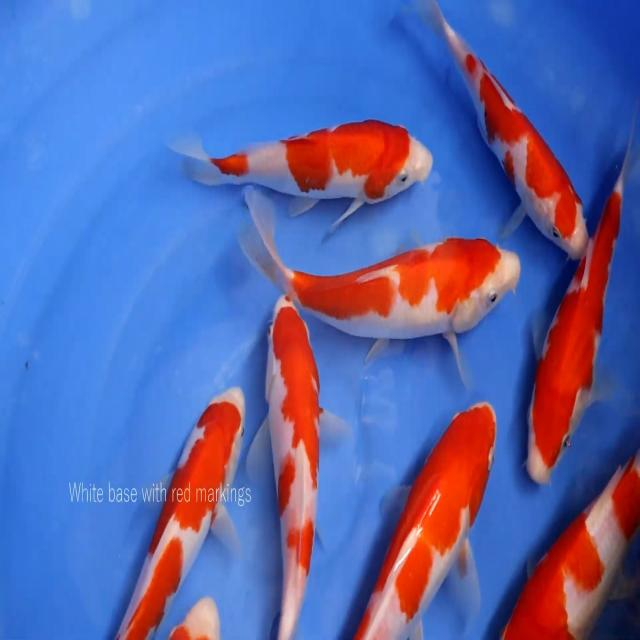Kohaku: (237, 183, 521, 389), (406, 0, 590, 261), (524, 105, 638, 486), (248, 292, 360, 640), (353, 400, 497, 638), (166, 117, 434, 242), (114, 385, 246, 638), (500, 447, 639, 638), (156, 591, 223, 640)
